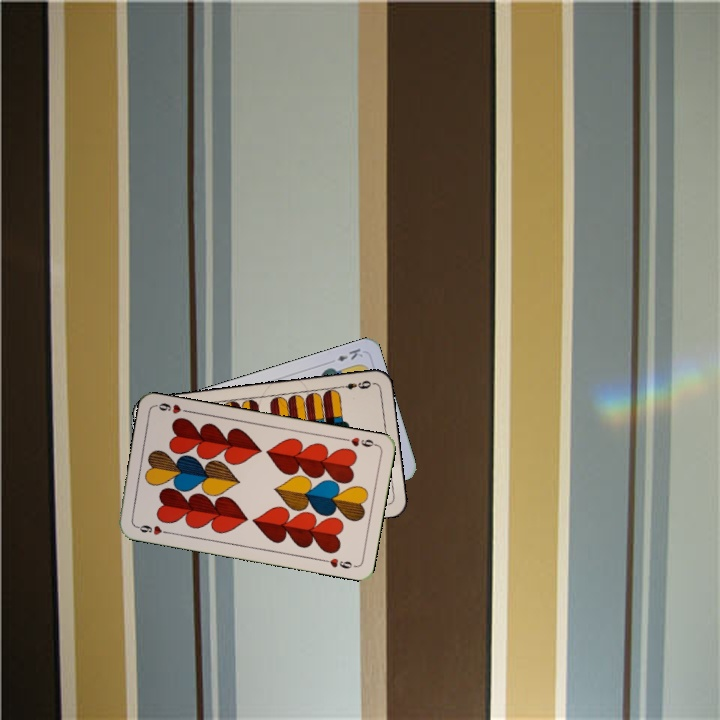E9: (335, 376, 374, 392)
EK: (333, 344, 365, 364)
H9: (339, 433, 379, 450), (132, 521, 172, 537)
